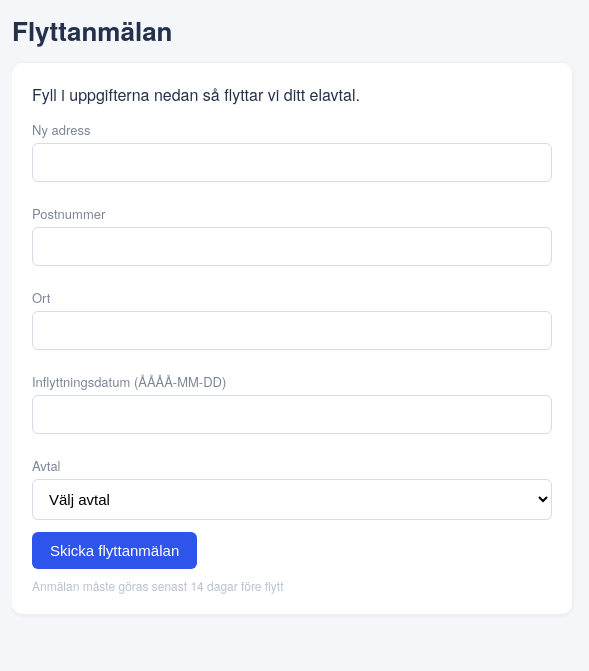
MoveFormView › stoppar anmälan med ogiltigt postnummer och visar felet
Type "Solvägen 12" into the field labelled "Ny adress".
click(292, 162); type("Solvägen 12")  # box top-left (32, 143), bottom-right (552, 182)
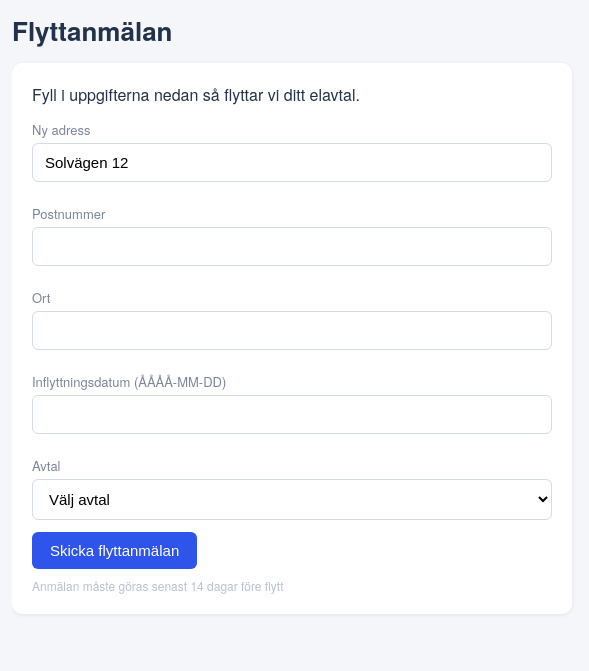
Type "802" into the field labelled "Postnummer".
click(292, 246); type("802")  # box top-left (32, 227), bottom-right (552, 266)
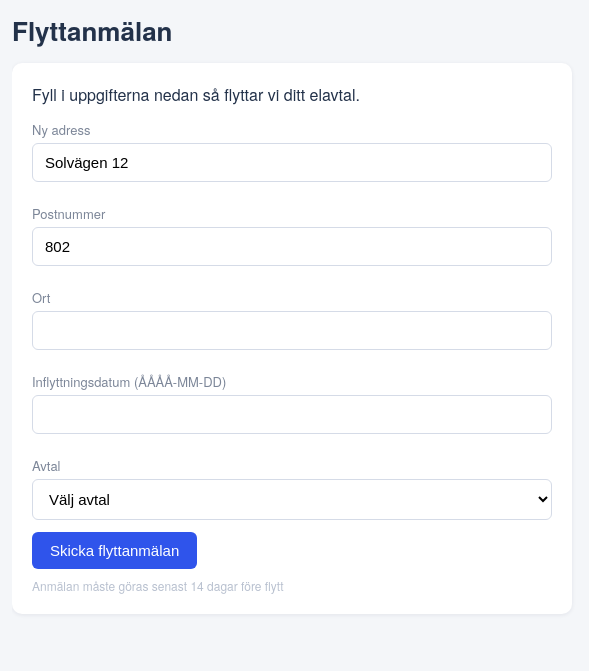
Type "Gävle" into the field labelled "Ort".
click(292, 330); type("Gävle")  # box top-left (32, 311), bottom-right (552, 350)
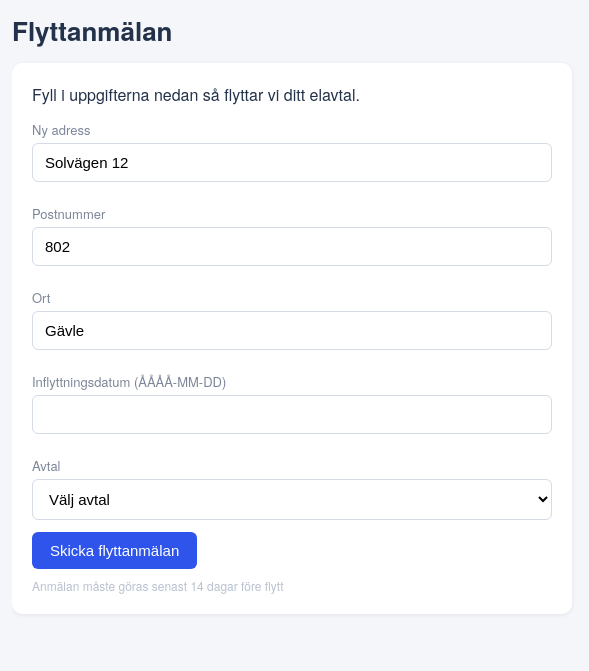
Type "2999-01-01" into the field labelled "Inflyttningsdatum (ÅÅÅÅ-MM-DD)".
click(292, 414); type("2999-01-01")  # box top-left (32, 395), bottom-right (552, 434)
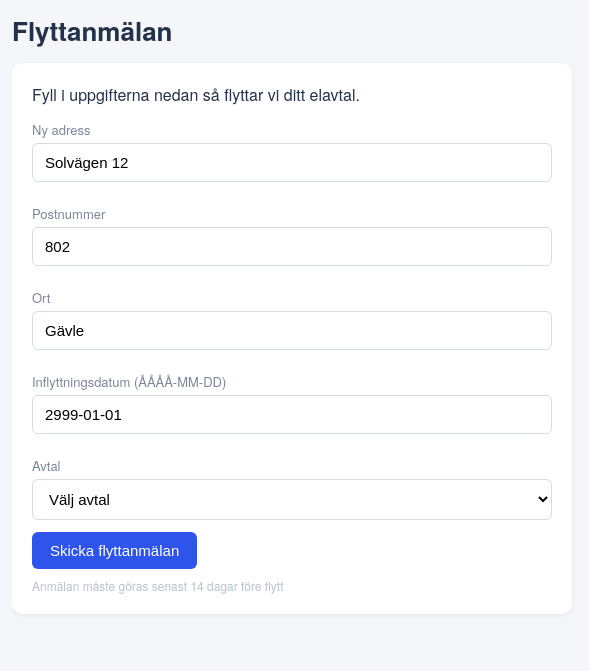
Select "Rörligt pris" in the dropdown labelled "Avtal" at point(292, 500), box top-left (32, 479), bottom-right (552, 520)
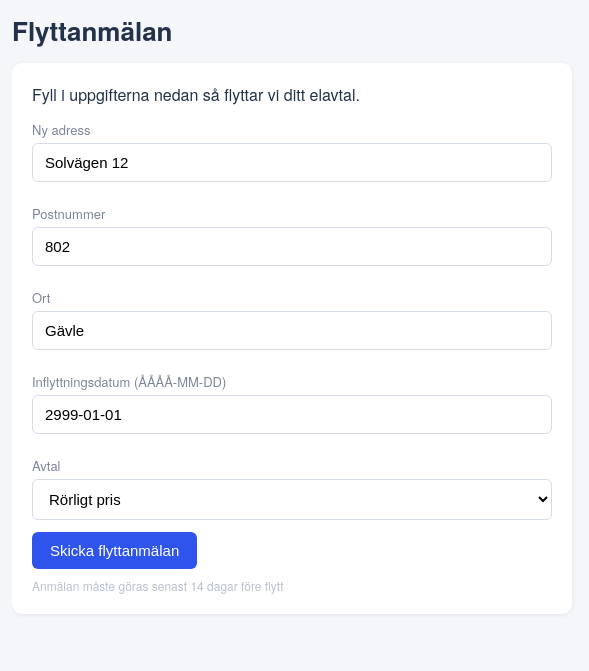
Click the button "Skicka flyttanmälan".
click(115, 550)  # box top-left (32, 532), bottom-right (197, 569)
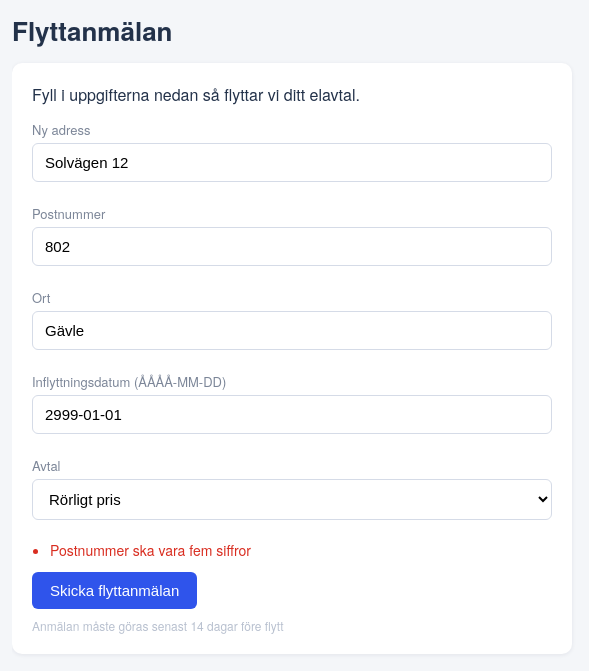
Now the message reads "Postnummer ska vara fem siffror", box top-left (50, 540), bottom-right (251, 560)
